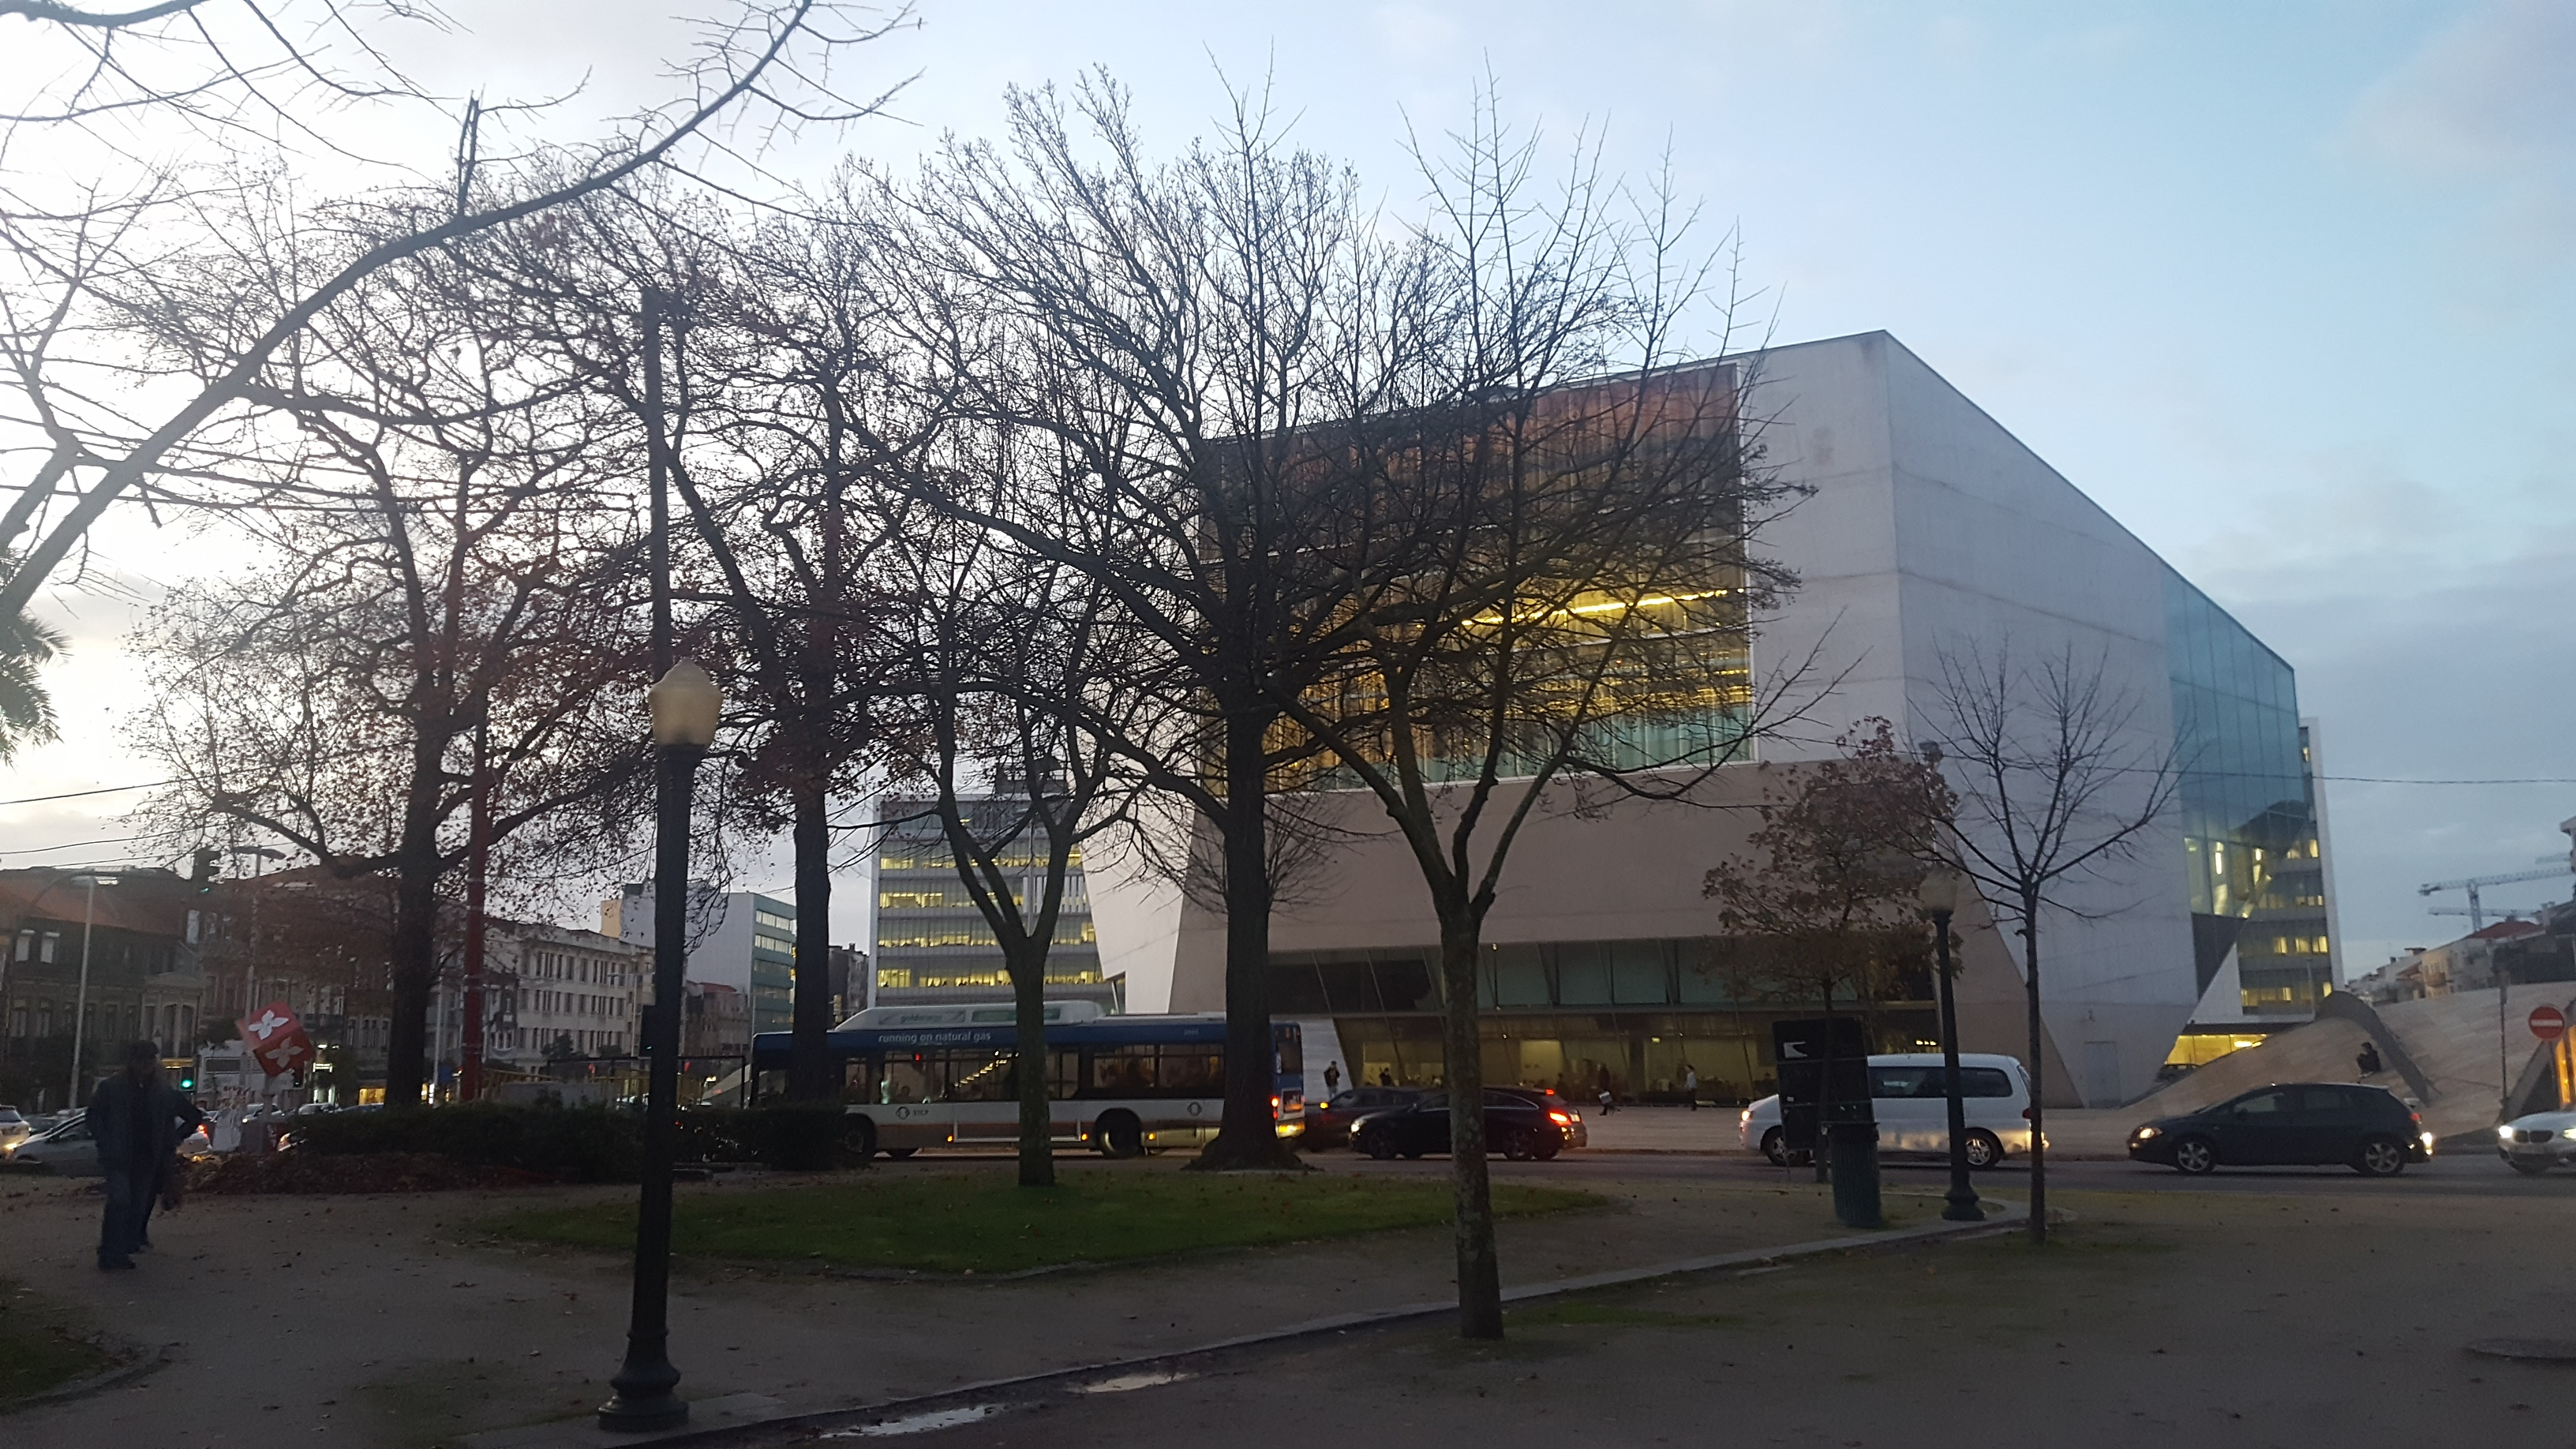musica: (1026, 311, 1168, 809)
